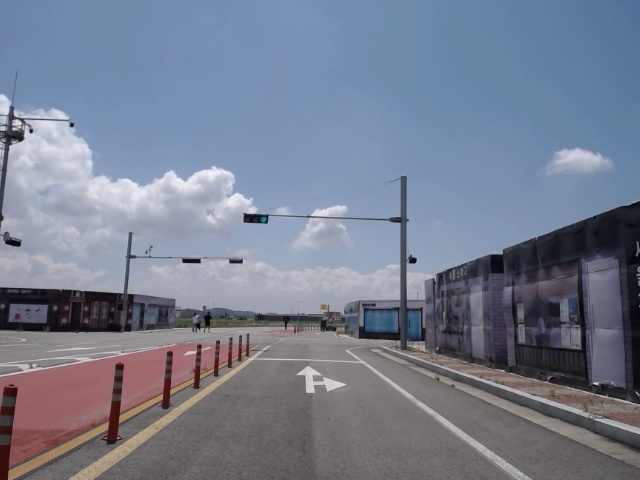green_3: (244, 213, 269, 223)
